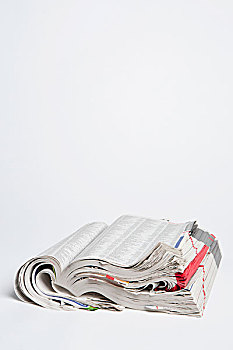book: (11, 210, 224, 320)
